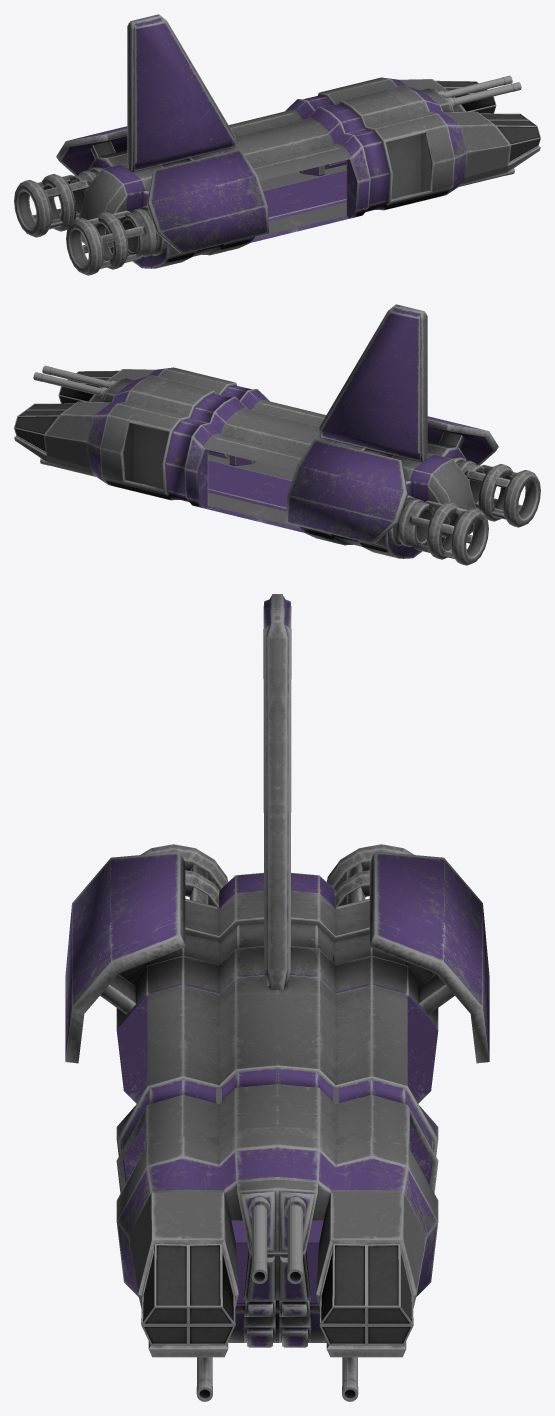
Rendered from SM_Corruption_Zombie_Dropship_Collision.fbx.
3 renders of one model, top to bottom at view 1: azimuth 30°, elevation 25°; view 2: azimuth 150°, elevation 25°; view 3: azimuth 270°, elevation 25°, orthographic. The views are drawn at different scales.
Parts seen in each view (by area): view 1: Ship_model_Mesh, Ship_interior; view 2: Ship_model_Mesh, Ship_interior; view 3: Ship_model_Mesh, Ship_interior.
Part boxes in pixels (bbox=[...]): Ship_model_Mesh: bbox=[14, 14, 540, 275]; Ship_interior: bbox=[251, 128, 431, 242]; Ship_model_Mesh: bbox=[14, 304, 540, 565]; Ship_interior: bbox=[123, 418, 303, 532]; Ship_model_Mesh: bbox=[65, 594, 489, 1401]; Ship_interior: bbox=[116, 954, 438, 1305].
Size of the model in its own units: 2097 by 834 by 1027.
